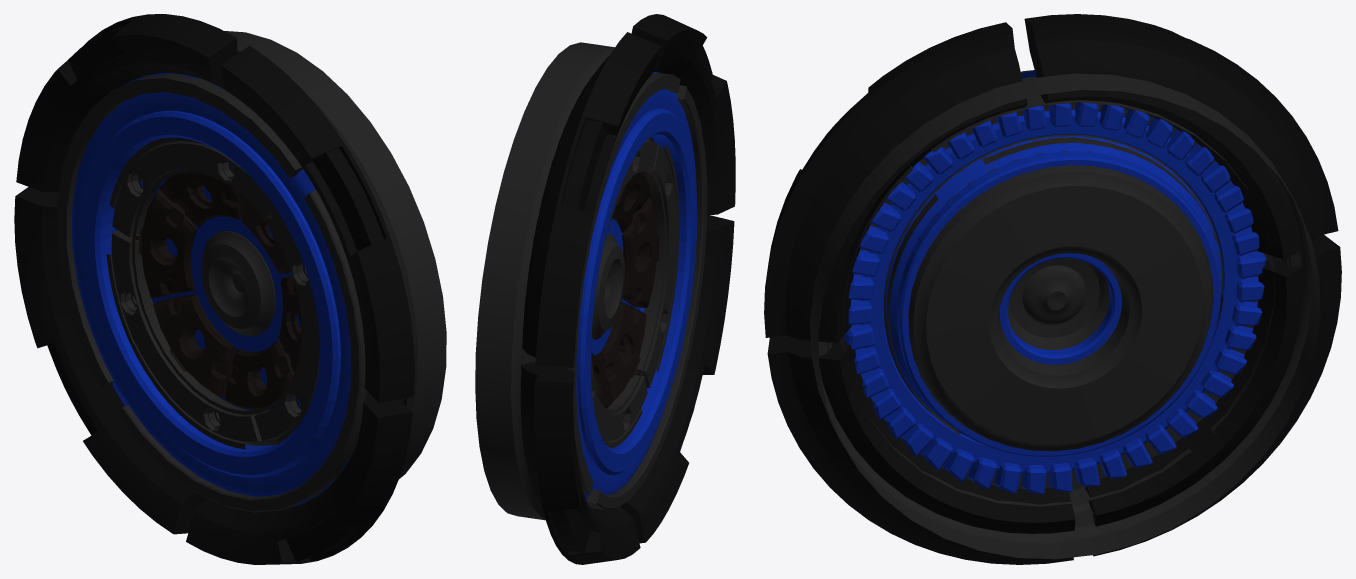
Rendered from Light_A.obj.
3 views of the same model, side by side, from view 1: azimuth 30°, elevation 25°; view 2: azimuth 150°, elevation 25°; view 3: azimuth 270°, elevation 25° (orthographic). The views are drawn at different scales.
Parts seen in each view (by area): view 1: Cylinder.006, Cylinder.008, Cylinder.003, Cylinder.007, Cylinder.016, Cylinder.005, Plane.006, Cylinder; view 2: Cylinder.006, Cylinder.003, Cylinder.008, Cylinder.007, Cylinder.005, Cylinder.016, Plane.006, Cylinder; view 3: Cylinder.006, Cylinder.003, Cylinder.002, Cylinder.008, Cylinder, Plane.006, Cylinder.005, Cylinder.007.
Part boxes in pixels (x1,y1,x2,y2): Cylinder.006: (14, 14, 414, 564); Cylinder.008: (82, 110, 340, 477); Cylinder.003: (117, 31, 446, 478); Cylinder.007: (106, 137, 319, 449); Cylinder.016: (138, 166, 301, 410); Cylinder.005: (57, 73, 367, 512); Plane.006: (72, 73, 351, 506); Cylinder: (143, 162, 301, 416); Cylinder.006: (520, 14, 735, 564); Cylinder.003: (475, 42, 654, 520); Cylinder.008: (577, 108, 697, 475); Cylinder.007: (591, 136, 679, 448); Cylinder.005: (565, 73, 707, 509); Cylinder.016: (591, 171, 659, 408); Plane.006: (552, 72, 696, 508); Cylinder: (591, 219, 640, 355); Cylinder.006: (764, 14, 1341, 564); Cylinder.003: (810, 73, 1320, 559); Cylinder.002: (844, 102, 1266, 494); Cylinder.008: (859, 109, 1246, 473); Cylinder: (897, 151, 1220, 456); Plane.006: (885, 70, 1221, 423); Cylinder.005: (826, 70, 1289, 517); Cylinder.007: (887, 137, 1223, 453).
Size of the model in its own units: 0.0255 by 0.0667 by 0.0647.
